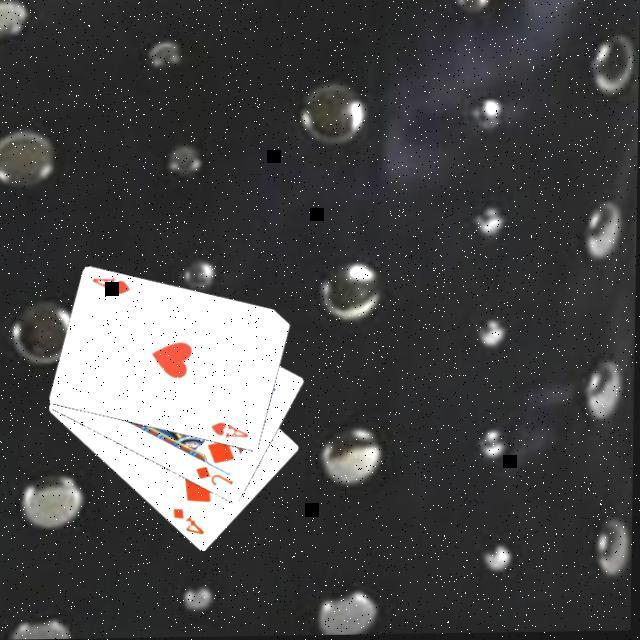4D: (172, 504, 210, 538)
AH: (91, 273, 136, 298), (211, 418, 255, 442)
JD: (195, 463, 240, 490)
